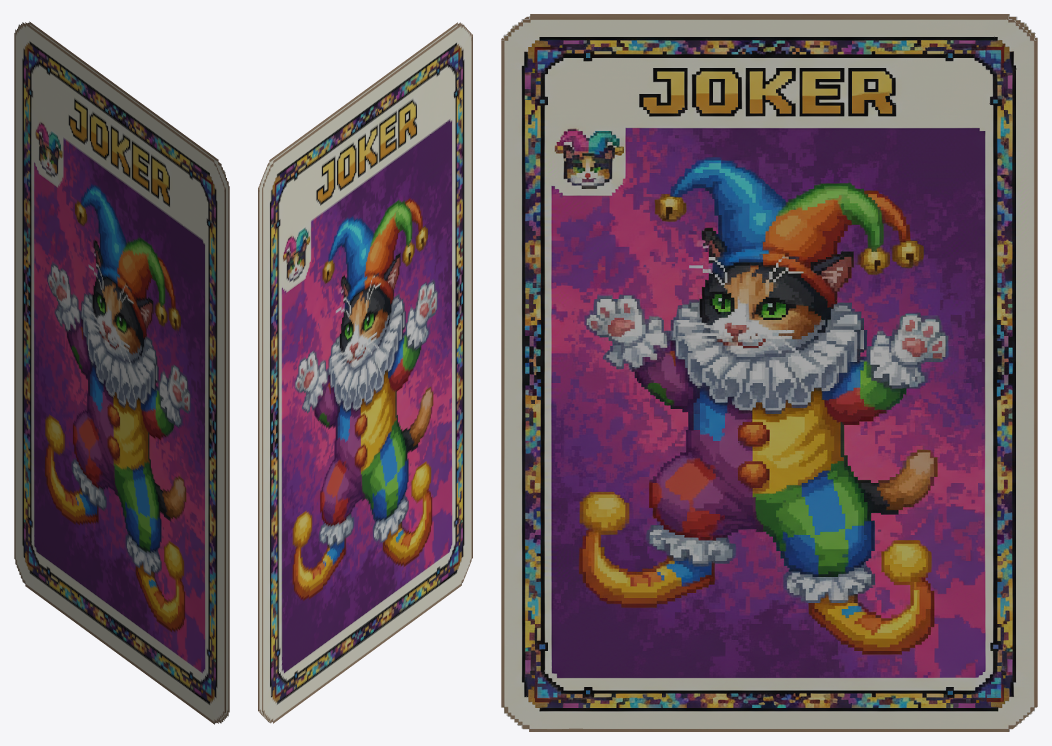
The picture shows the model from 3 angles, left to right: view 1: azimuth 30°, elevation 25°; view 2: azimuth 150°, elevation 25°; view 3: azimuth 270°, elevation 25°; orthographic projection. The views are drawn at different scales.
Visible parts, largest first — view 1: cuboid; view 2: cuboid; view 3: cuboid.
Boxes of the visible parts, <box> form: cuboid: <box>14,21,229,724</box>; cuboid: <box>258,22,472,723</box>; cuboid: <box>501,14,1037,731</box>.
Bounding box in the file's own units: 0.375 × 53.25 × 36.19.
1 material, 1 textured.
